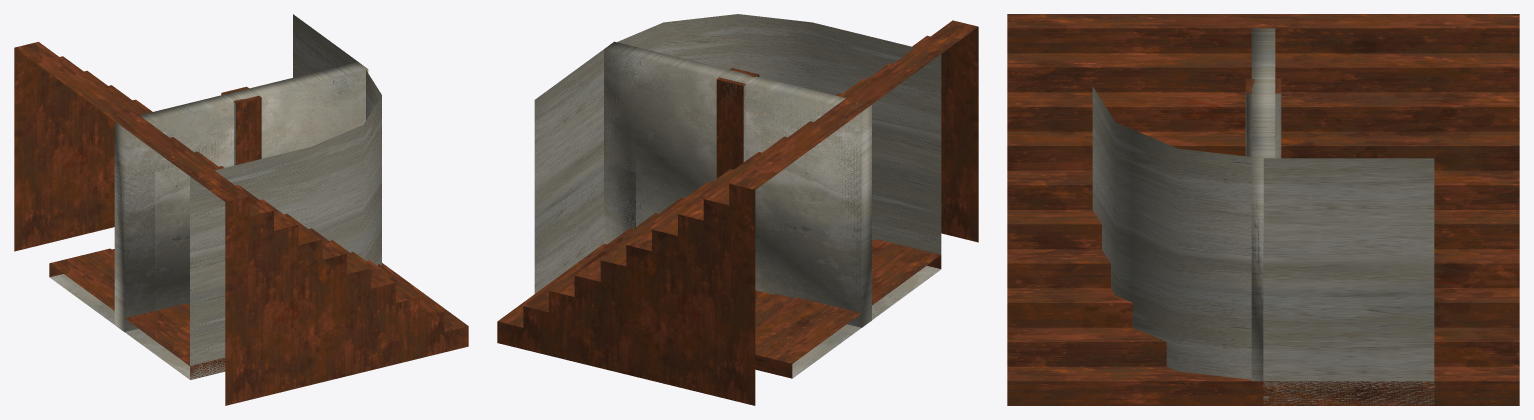
Rendered from st-agnes-kit.glb.
3 renders of one model, left to right at view 1: azimuth 30°, elevation 25°; view 2: azimuth 150°, elevation 25°; view 3: azimuth 270°, elevation 25°, orthographic. The views are drawn at different scales.
Parts seen in each view (by area): view 1: Stairs, Wall, Wall_Corner, WallDoorway, Stairs_Landing, DoorwayConnector, Ceiling; view 2: Stairs, Wall, Wall_Corner, WallDoorway, Stairs_Landing, DoorwayConnector, Ceiling; view 3: Stairs, Wall_Corner, Wall, WallDoorway, Pillar.
Part boxes in pixels (x1,y1,x2,y2): Stairs: (14, 42, 468, 405); Wall: (114, 62, 368, 331); Wall_Corner: (190, 14, 381, 379); WallDoorway: (114, 62, 368, 330); Stairs_Landing: (49, 248, 225, 379); DoorwayConnector: (221, 86, 261, 164); Ceiling: (50, 274, 189, 379); Stairs: (497, 20, 978, 405); Wall: (604, 41, 871, 327); Wall_Corner: (534, 14, 941, 293); WallDoorway: (604, 42, 871, 327); Stairs_Landing: (755, 239, 941, 378); DoorwayConnector: (716, 68, 759, 178); Ceiling: (792, 265, 940, 378); Stairs: (1007, 14, 1519, 405); Wall_Corner: (1092, 86, 1434, 405); Wall: (1251, 28, 1275, 404); WallDoorway: (1251, 55, 1275, 381); Pillar: (1245, 93, 1281, 158).
Bounding box in the file's own units: 4 × 3.2 × 6.
3 materials, 3 textured.
